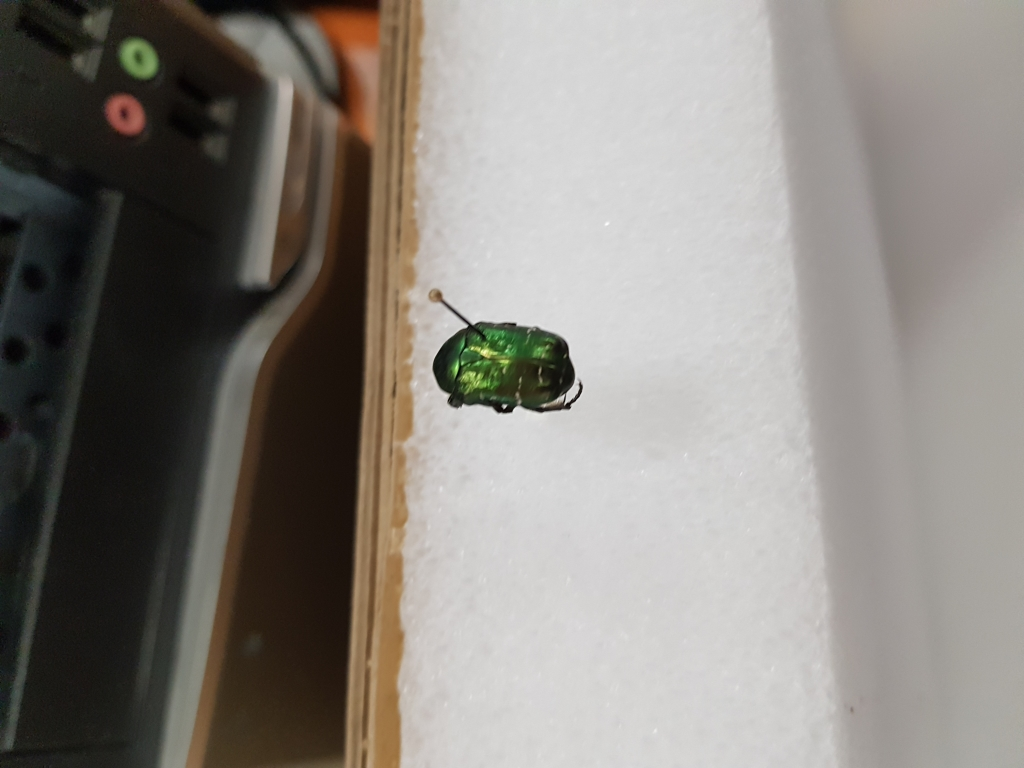Cetonia_kemali: (425, 308, 596, 418)
